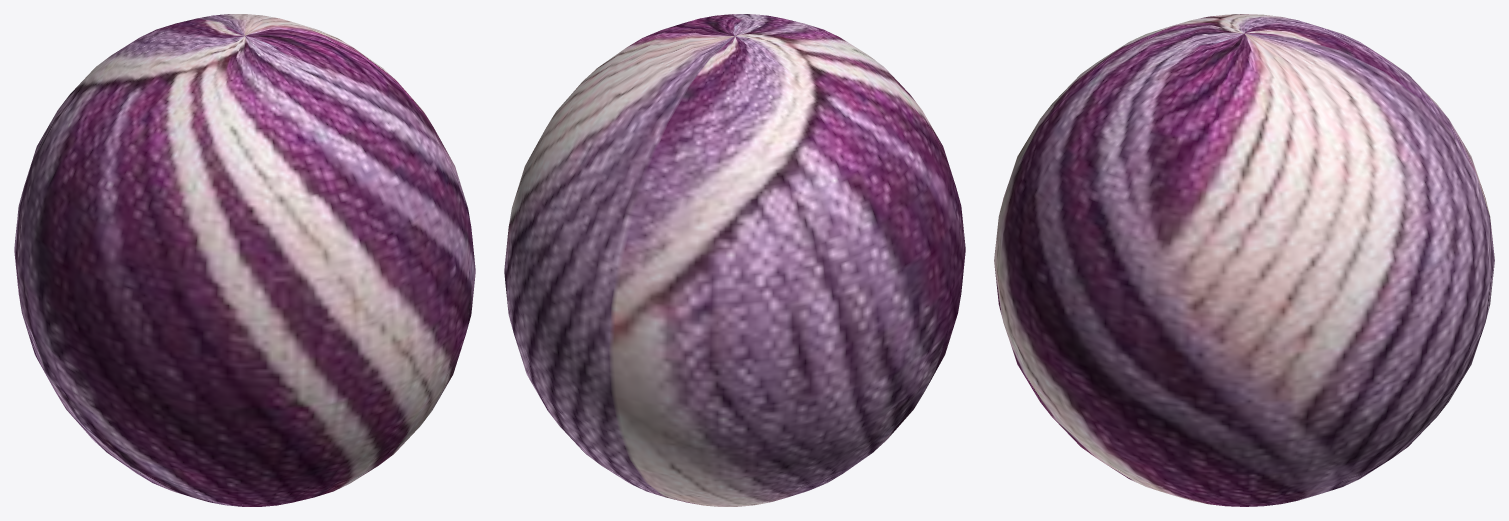
The model's file is estambre.obj.
3 views of the same model, side by side, from view 1: azimuth 30°, elevation 25°; view 2: azimuth 150°, elevation 25°; view 3: azimuth 270°, elevation 25° (orthographic).
Parts seen in each view (by area): view 1: Sphere001; view 2: Sphere001; view 3: Sphere001.
Boxes of the visible parts, x1,y1,x2,y2 form: Sphere001: (14, 14, 475, 506); Sphere001: (504, 14, 965, 506); Sphere001: (994, 14, 1494, 506).
Bounding box in the file's own units: 6.7 × 7.38 × 7.38.
